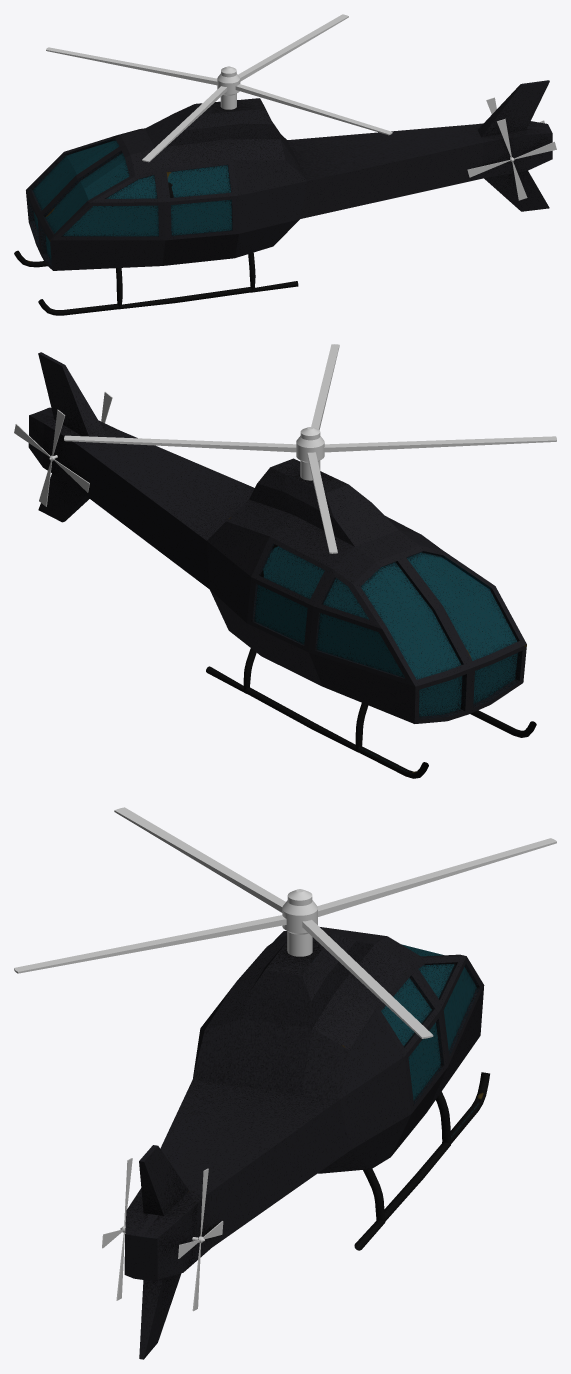
File: anim_000166.obj
The picture shows the model from 3 angles, top to bottom: view 1: azimuth 30°, elevation 25°; view 2: azimuth 150°, elevation 25°; view 3: azimuth 270°, elevation 25°; orthographic projection. The views are drawn at different scales.
Parts seen in each view (by area): view 1: Helicopter.007_Cylinder.008, Helicopter.001_Cylinder.001, Helicopter.003_Cylinder.004; view 2: Helicopter.007_Cylinder.008, Helicopter.001_Cylinder.001, Helicopter.004_Cylinder.005; view 3: Helicopter.007_Cylinder.008, Helicopter.001_Cylinder.001, Helicopter.004_Cylinder.005, Helicopter.003_Cylinder.004.
Boxes of the visible parts, x1=… form: Helicopter.007_Cylinder.008: x1=14, y1=80, x2=552, y2=315; Helicopter.001_Cylinder.001: x1=46, y1=14, x2=392, y2=162; Helicopter.003_Cylinder.004: x1=467, y1=118, x2=556, y2=200; Helicopter.007_Cylinder.008: x1=28, y1=352, x2=536, y2=778; Helicopter.001_Cylinder.001: x1=64, y1=344, x2=556, y2=553; Helicopter.004_Cylinder.005: x1=14, y1=409, x2=89, y2=506; Helicopter.007_Cylinder.008: x1=124, y1=927, x2=489, y2=1359; Helicopter.001_Cylinder.001: x1=14, y1=807, x2=556, y2=1038; Helicopter.004_Cylinder.005: x1=178, y1=1168, x2=223, y2=1311; Helicopter.003_Cylinder.004: x1=102, y1=1158, x2=132, y2=1300.
Size of the model in its own units: 7.51 by 3.21 by 4.87.
